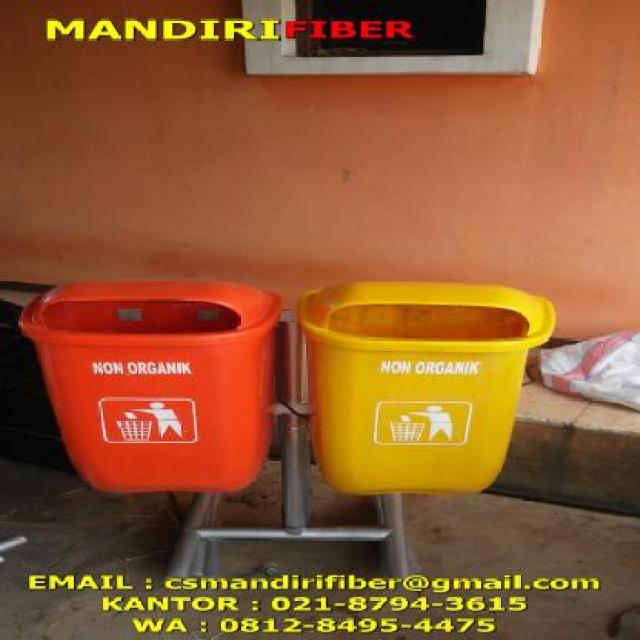garbage container: (284, 280, 574, 508), (5, 272, 276, 510)
